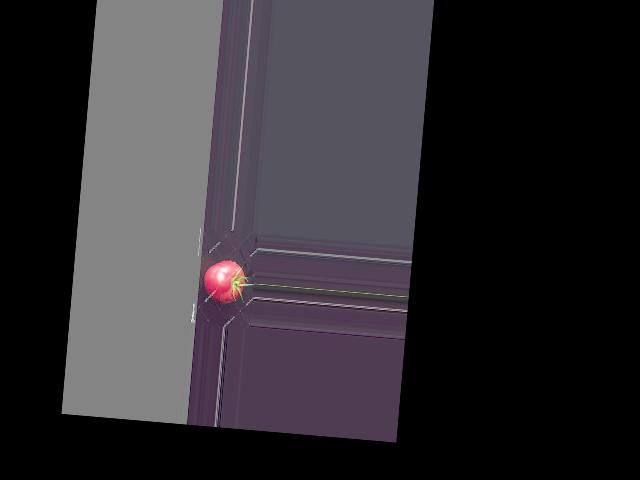tomato: (202, 258, 246, 304)
